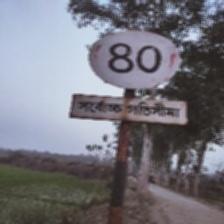Speed-limit: (70, 28, 187, 127)
